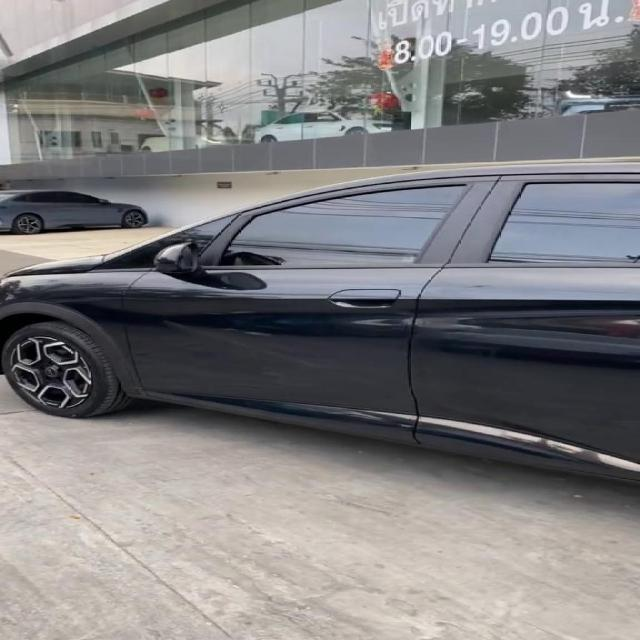Hatchback: (0, 159, 639, 481)
